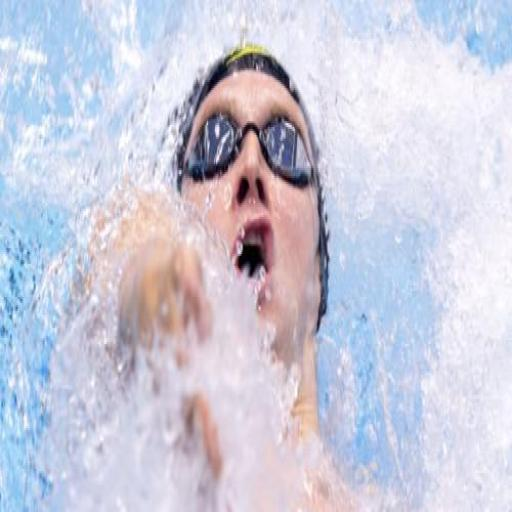swimming: (42, 39, 370, 510)
